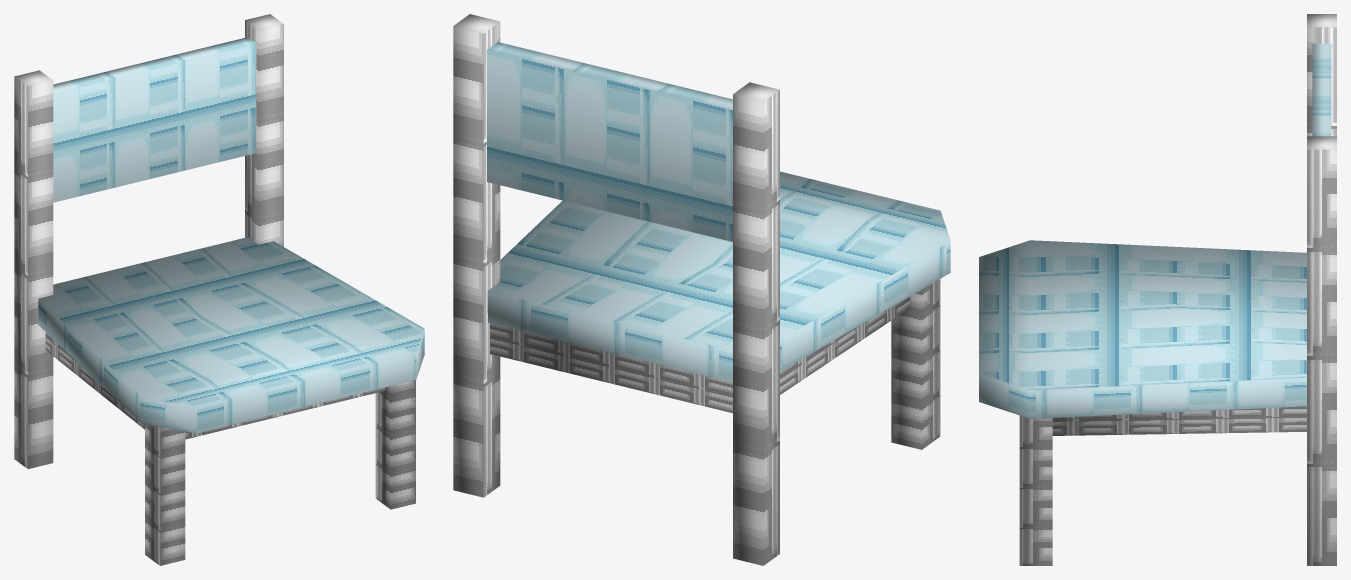
Rendered from 3235IMSD01_21.gltf.
The picture shows the model from 3 angles, left to right: view 1: azimuth 30°, elevation 25°; view 2: azimuth 150°, elevation 25°; view 3: azimuth 270°, elevation 25°; orthographic projection. The views are drawn at different scales.
Parts seen in each view (by area): view 1: 3235IMSD01_21; view 2: 3235IMSD01_21; view 3: 3235IMSD01_21.
Boxes of the visible parts, x1,y1,x2,y2 form: 3235IMSD01_21: (14,14,424,565); 3235IMSD01_21: (453,14,950,565); 3235IMSD01_21: (979,14,1336,565).
Size of the model in its own units: 0.7739 by 1 by 0.78.
Materials: 2 (2 with a texture image).
